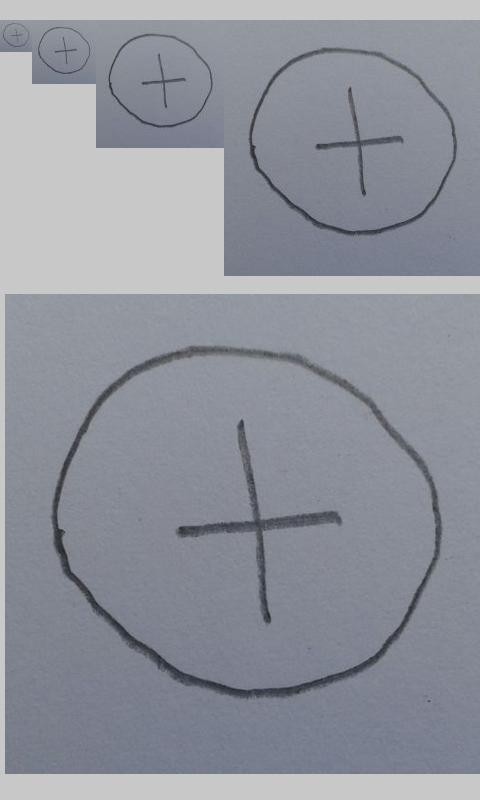button: (46, 344, 447, 700), (248, 47, 459, 237), (108, 33, 214, 128), (37, 26, 91, 74), (2, 22, 30, 48)
